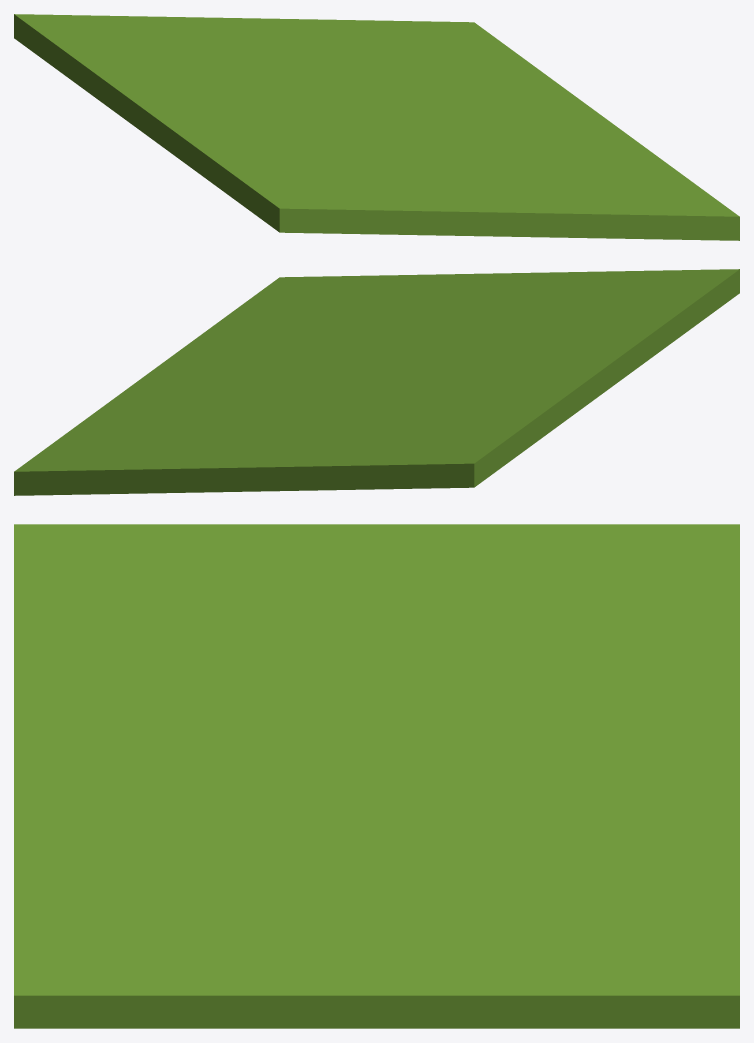
File: WorldBlocksSlope.fbx
The picture shows the model from 3 angles, top to bottom: view 1: azimuth 30°, elevation 25°; view 2: azimuth 150°, elevation 25°; view 3: azimuth 270°, elevation 25°; orthographic projection. The views are drawn at different scales.
Parts seen in each view (by area): view 1: WorldBlockSlope; view 2: WorldBlockSlope; view 3: WorldBlockSlope.
Boxes of the visible parts, box(x1,y1,x2,y2) form: WorldBlockSlope: box(14, 14, 739, 240); WorldBlockSlope: box(14, 269, 739, 495); WorldBlockSlope: box(14, 524, 739, 1028).
Bounding box in the file's own units: 2000 × 600 × 2000.
Materials: 1 (1 with a texture image).
